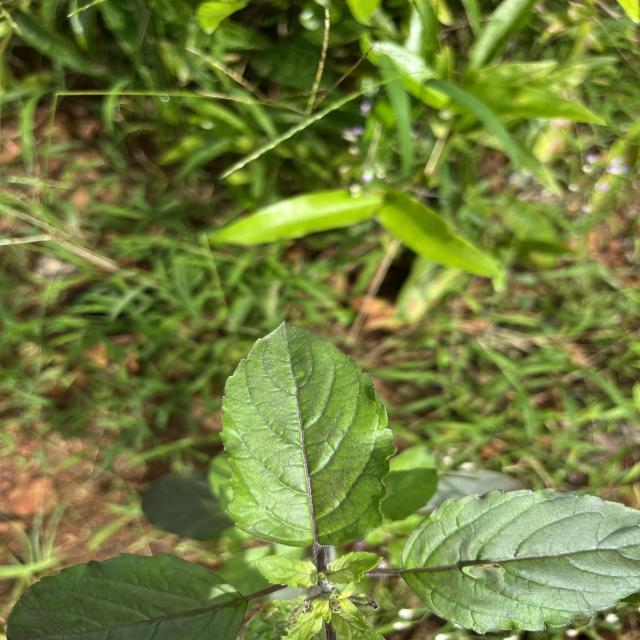Ocimum tenuiflorum: (216, 320, 400, 550)
